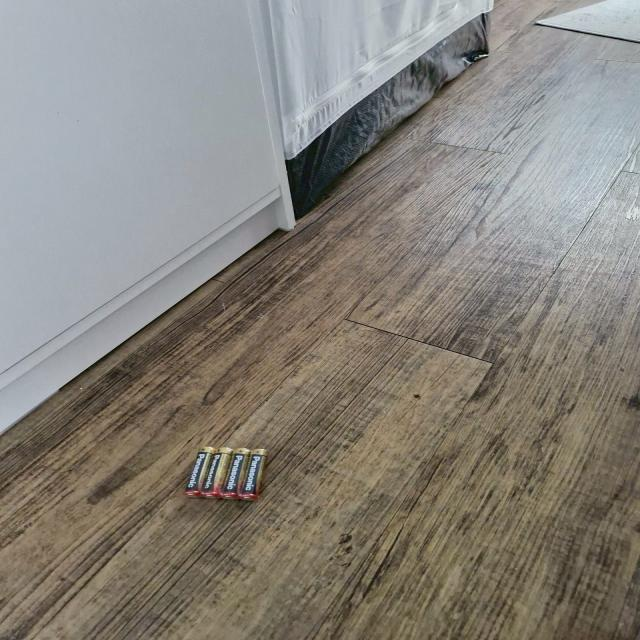battery: (174, 441, 276, 502)
